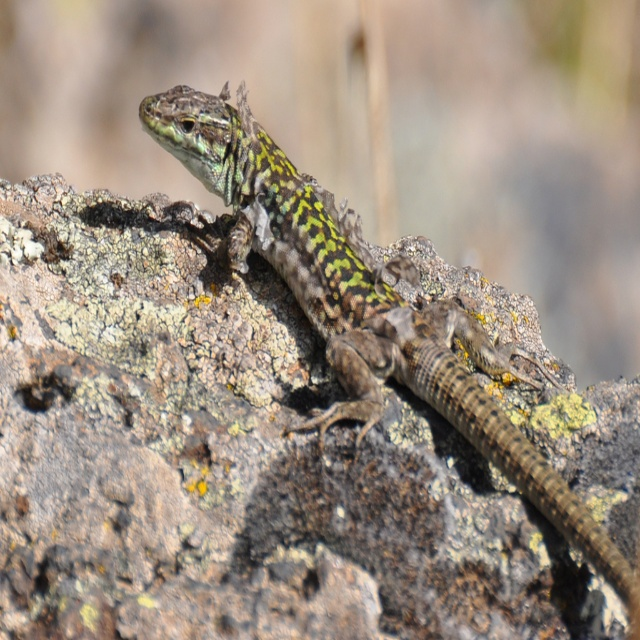Lizard: (139, 79, 640, 619)
